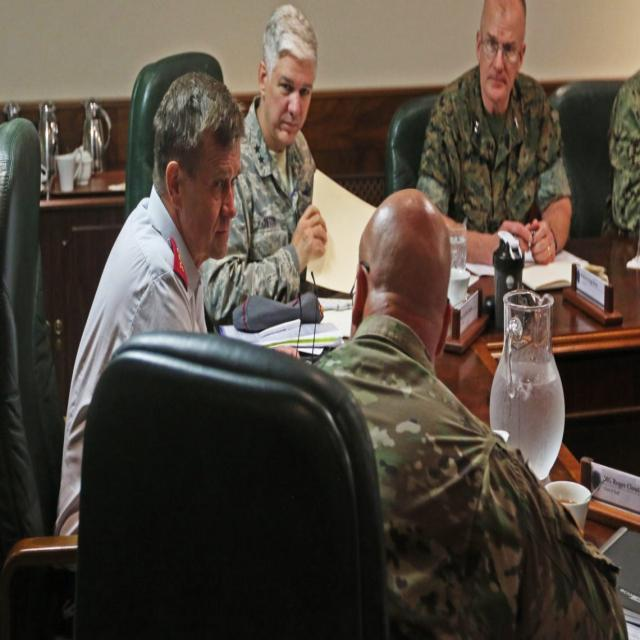body: (311, 186, 630, 639), (55, 64, 248, 546), (197, 4, 331, 331), (414, 0, 576, 266), (601, 58, 639, 247)
